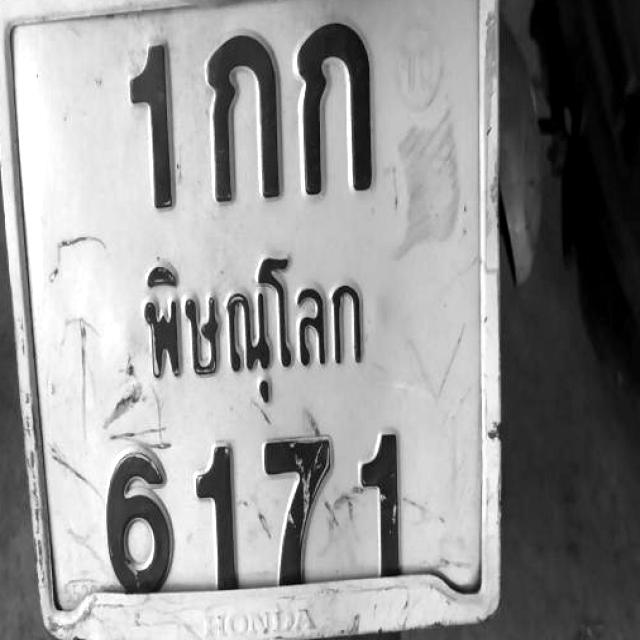letters: (69, 437, 206, 610), (193, 23, 285, 194), (110, 36, 188, 220), (246, 436, 337, 586), (315, 21, 384, 197), (341, 427, 418, 583), (185, 444, 245, 595)
license-plate: (0, 0, 498, 634)
province: (116, 238, 403, 394)
